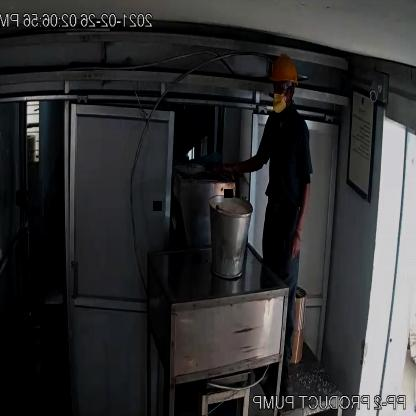helmet: (266, 50, 302, 96)
